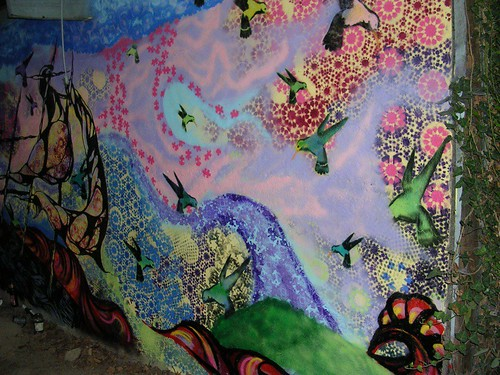graffiti: (4, 1, 450, 374)
